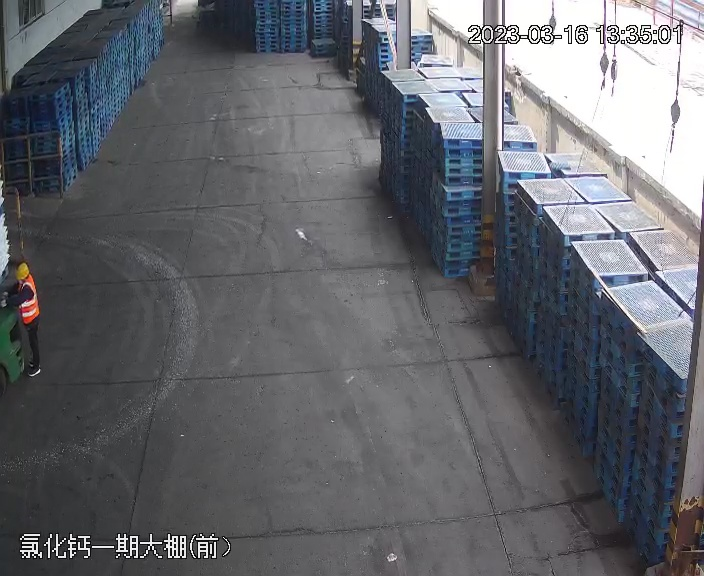head: (7, 262, 39, 300)
helmet: (13, 261, 31, 279)
people: (3, 261, 44, 380)
